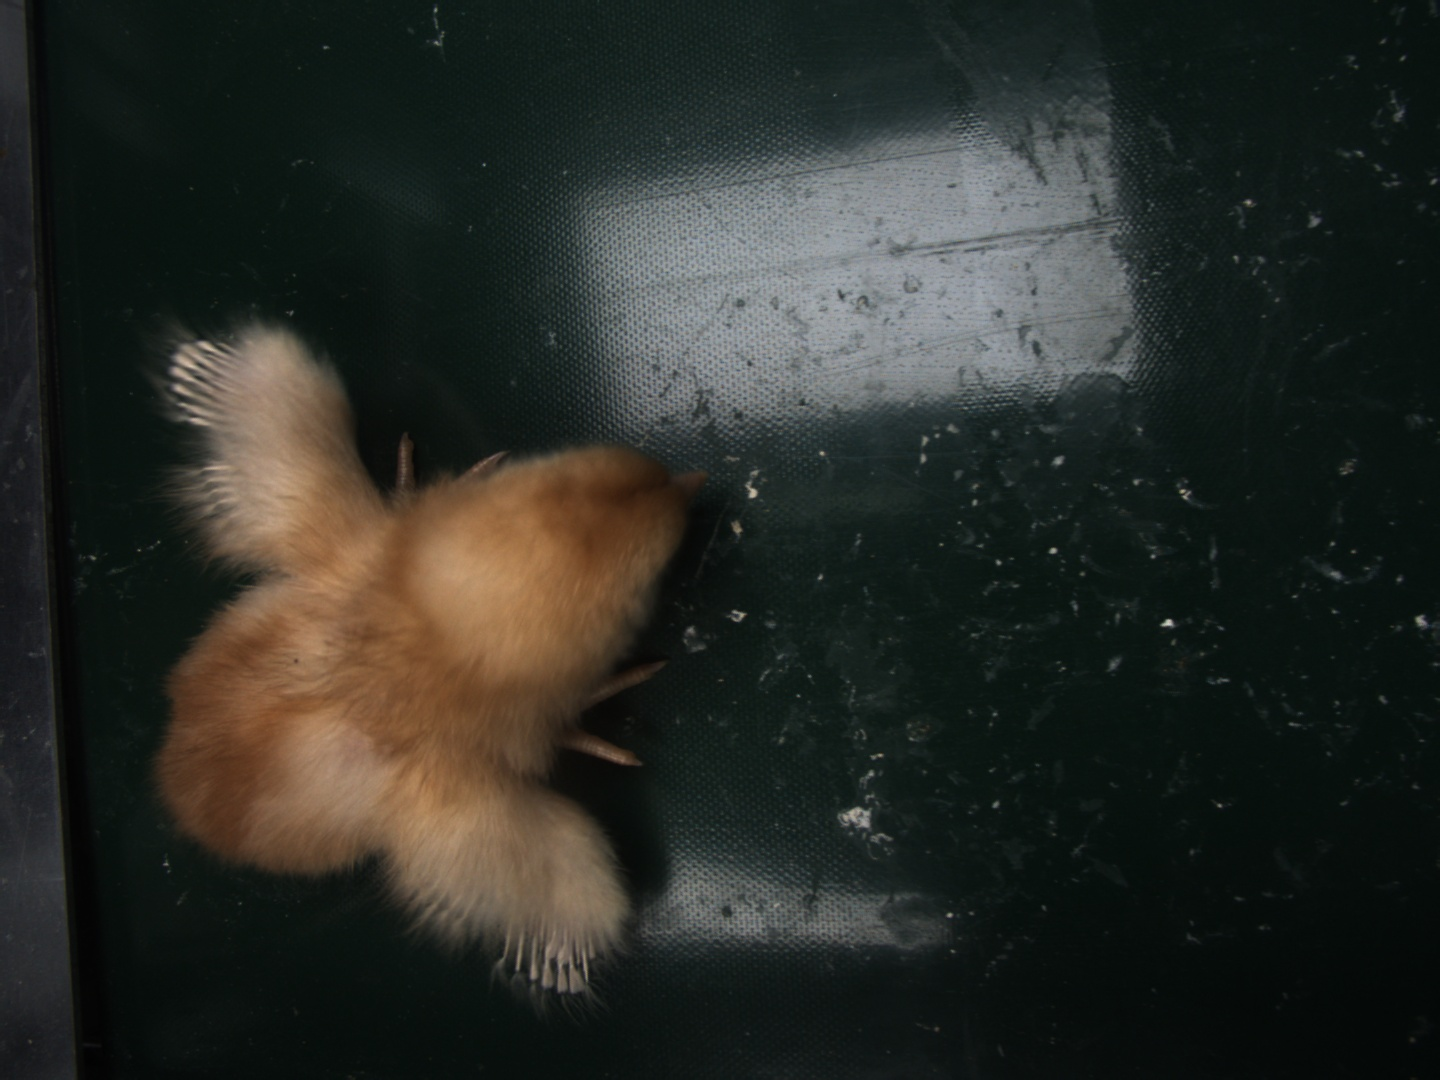female: (497, 923, 595, 1004)
